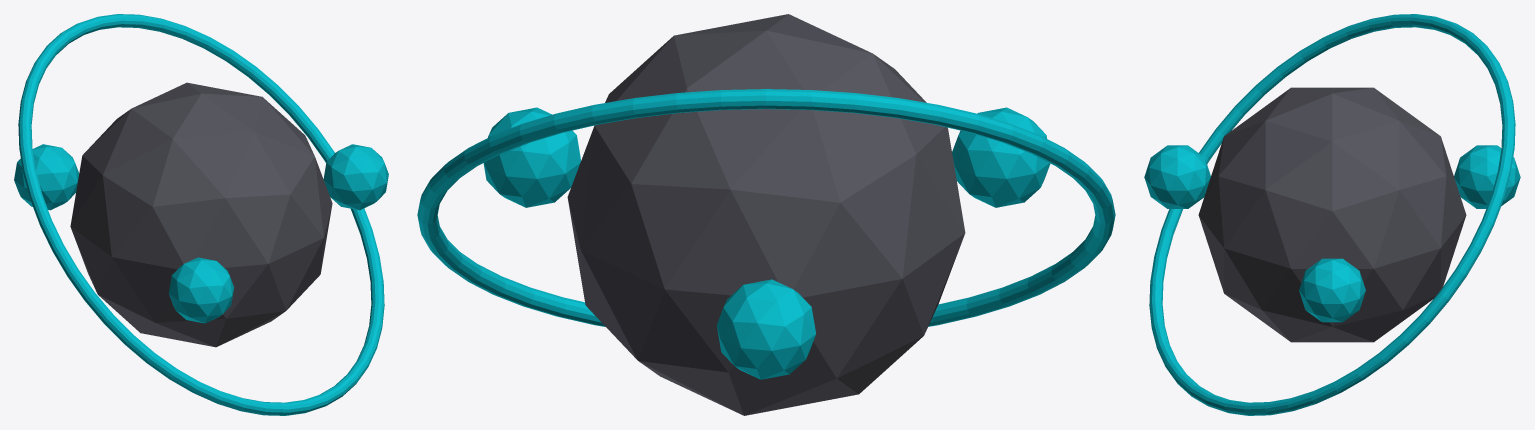
Rendered from 1password.glb.
3 views of the same model, side by side, from view 1: azimuth 30°, elevation 25°; view 2: azimuth 150°, elevation 25°; view 3: azimuth 270°, elevation 25° (orthographic). The views are drawn at different scales.
Visible parts, largest first — view 1: primary, accent_ring, accent_2, accent_0, accent_1; view 2: primary, accent_ring, accent_1, accent_0, accent_2; view 3: primary, accent_ring, accent_0, accent_2, accent_1.
Part boxes in pixels (left/top/right/bottom): primary: left=70, top=82, right=332, bottom=347; accent_ring: left=18, top=14, right=384, bottom=415; accent_2: left=168, top=257, right=234, bottom=323; accent_0: left=323, top=144, right=388, bottom=210; accent_1: left=14, top=144, right=79, bottom=210; primary: left=567, top=14, right=965, bottom=415; accent_ring: left=417, top=89, right=1115, bottom=326; accent_1: left=716, top=279, right=815, bottom=379; accent_0: left=483, top=107, right=580, bottom=207; accent_2: left=952, top=107, right=1050, bottom=207; primary: left=1198, top=87, right=1466, bottom=342; accent_ring: left=1149, top=14, right=1515, bottom=415; accent_0: left=1299, top=258, right=1365, bottom=322; accent_2: left=1144, top=145, right=1210, bottom=208; accent_1: left=1454, top=145, right=1520, bottom=208.
Size of the model in its own units: 0.193 by 0.1472 by 0.1686.
